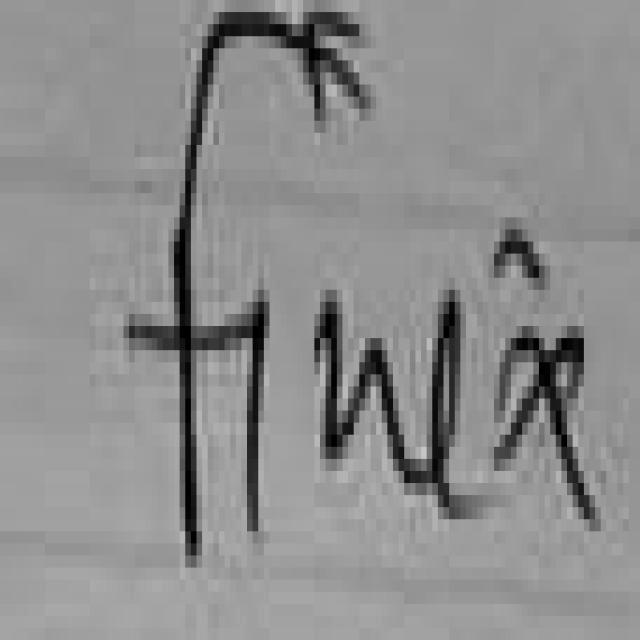F: (126, 4, 365, 558)
i: (410, 292, 481, 515), (248, 302, 266, 530), (500, 229, 545, 290)
n: (320, 302, 427, 483)
x: (500, 338, 601, 531)
